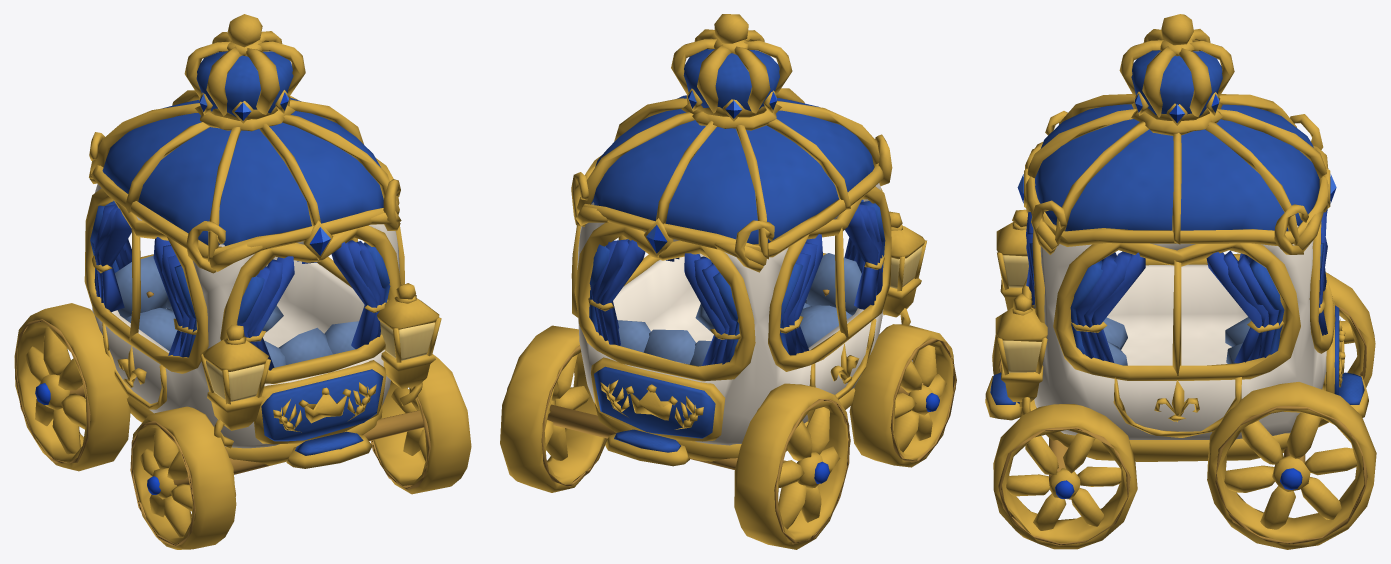
The model's file is RoyalCarriageStatue.glb.
The picture shows the model from 3 angles, left to right: view 1: azimuth 30°, elevation 25°; view 2: azimuth 150°, elevation 25°; view 3: azimuth 270°, elevation 25°; orthographic projection. The views are drawn at different scales.
Visible parts, largest first — view 1: RoyalCarriage Statue; view 2: RoyalCarriage Statue; view 3: RoyalCarriage Statue.
Boxes of the visible parts, bbox=[...] form: RoyalCarriage Statue: bbox=[14, 14, 471, 549]; RoyalCarriage Statue: bbox=[500, 14, 956, 549]; RoyalCarriage Statue: bbox=[985, 14, 1376, 549].
Size of the model in its own units: 1.89 by 2.72 by 2.05.
2 materials, 2 textured.
